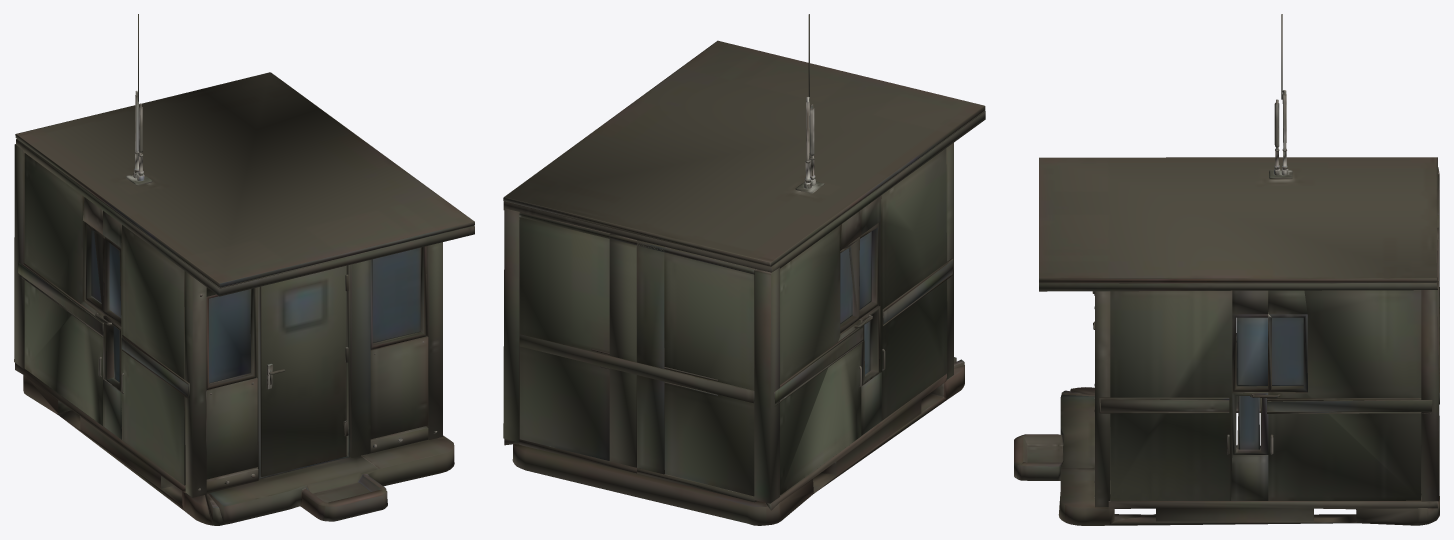
File: l_hut.glb
The picture shows the model from 3 angles, left to right: view 1: azimuth 30°, elevation 25°; view 2: azimuth 150°, elevation 25°; view 3: azimuth 270°, elevation 25°; orthographic projection. The views are drawn at different scales.
Size of the model in its own units: 0.6133 by 0.9521 by 0.8931.
Materials: 1 (1 with a texture image).
